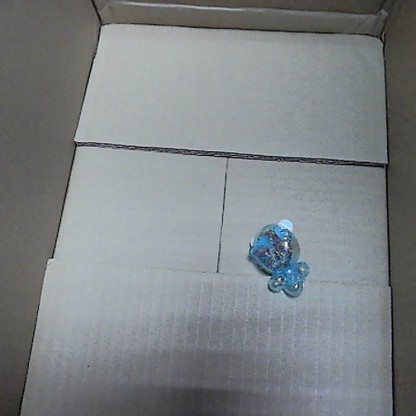bluefish: (246, 217, 312, 299)
